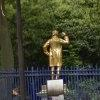Statue: (32, 22, 77, 82)
